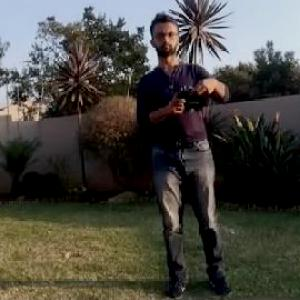follow: (132, 5, 240, 299)
